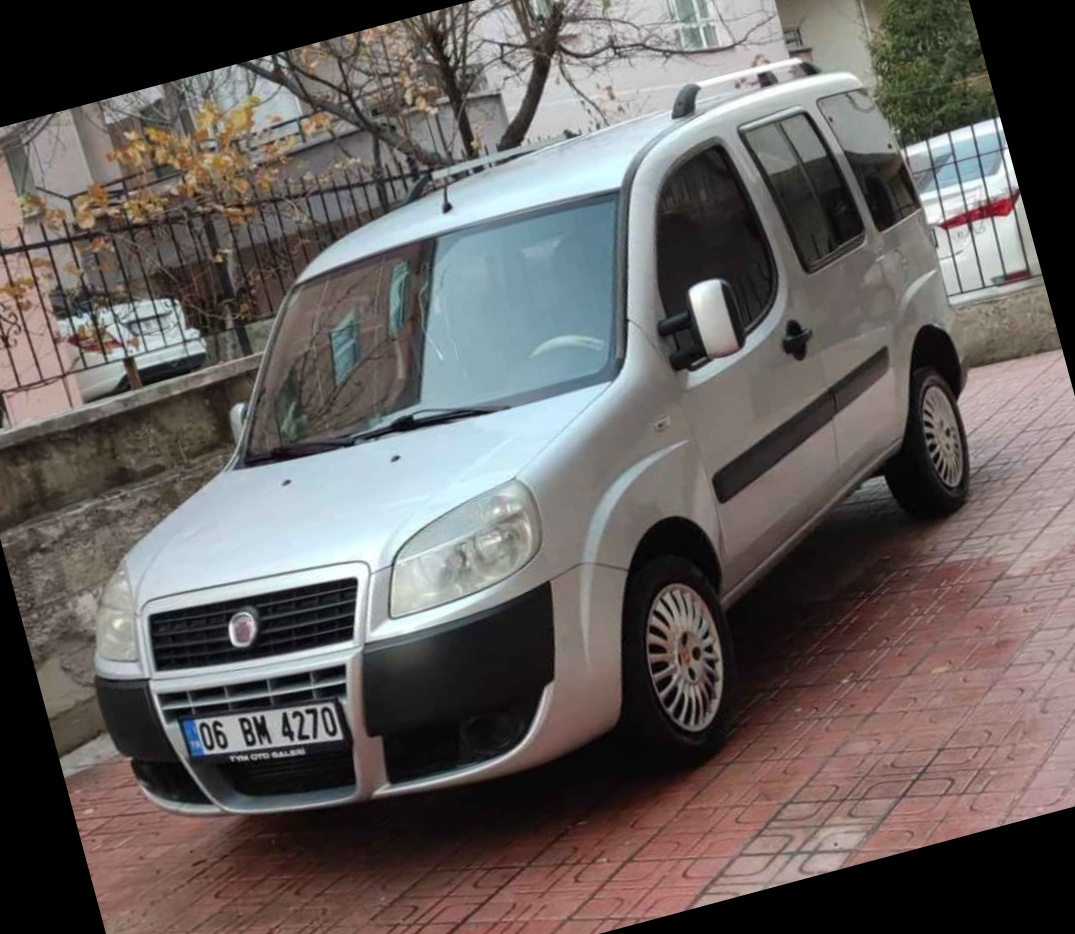plaka: (181, 696, 345, 754)
